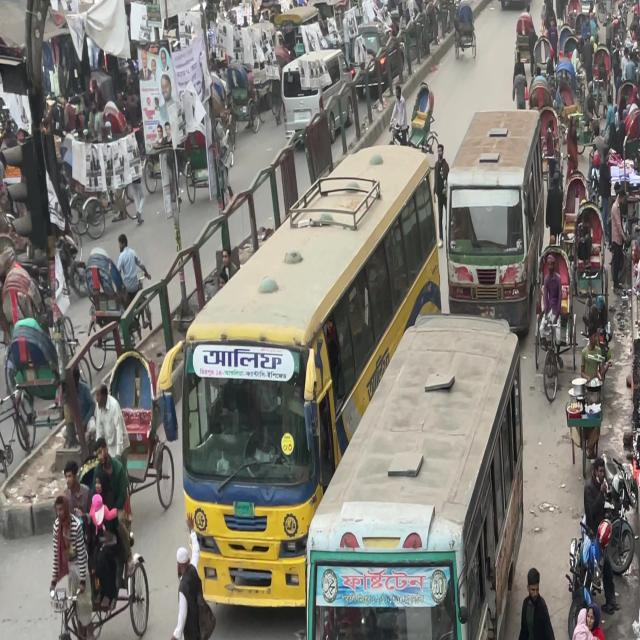bicycle: (48, 561, 115, 640), (120, 548, 150, 636)
bus: (161, 143, 453, 609), (304, 311, 525, 640), (448, 108, 562, 317)
